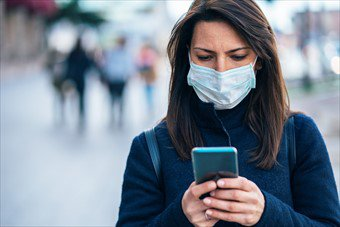mask: (168, 5, 277, 109)
